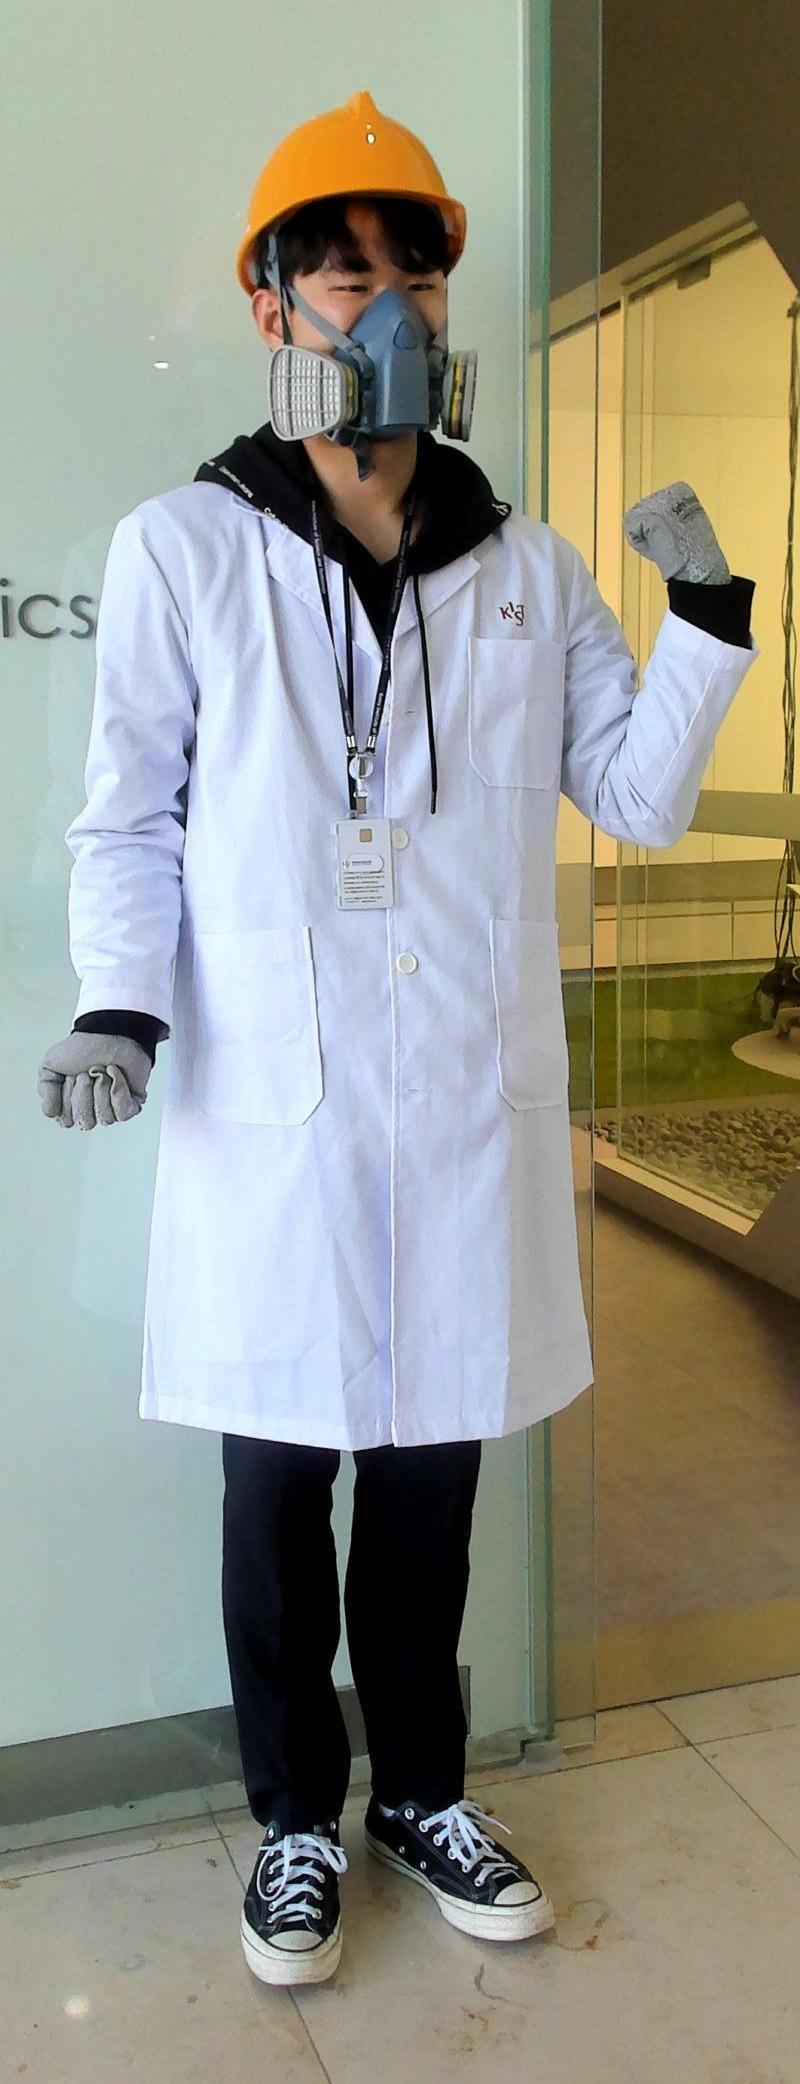lab_coat: (161, 510, 601, 1433)
